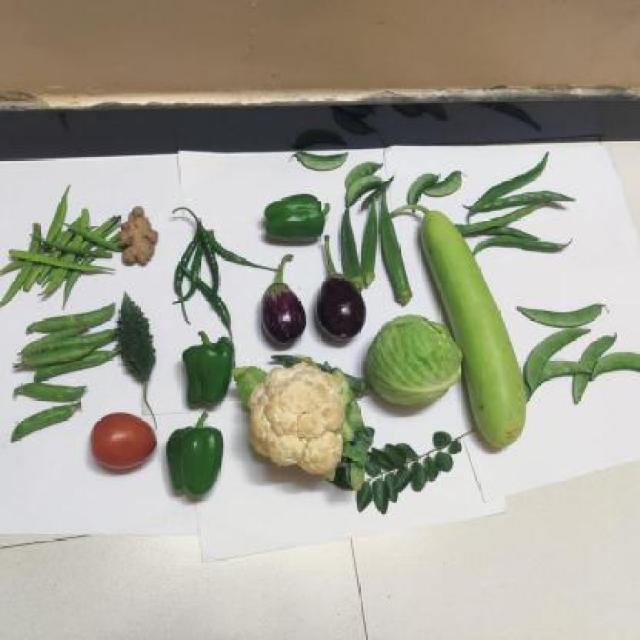Bitter melon: (114, 289, 157, 389)
Brinjal: (316, 237, 366, 340), (260, 256, 306, 344)
Cabbage: (366, 315, 462, 408)
Calabash: (442, 220, 536, 438)
Capsicum: (168, 418, 223, 504), (177, 330, 234, 408), (260, 197, 331, 243)
Cauliflower: (243, 366, 365, 484)
Ginger: (117, 202, 160, 266)
Green Chili: (170, 222, 244, 324)
Lady finger: (342, 194, 406, 283)
Tomato: (91, 414, 154, 472)
